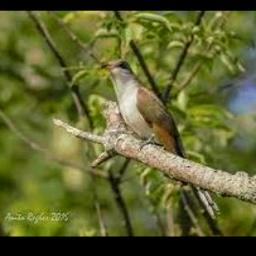Cuckoo: (101, 59, 219, 221)
